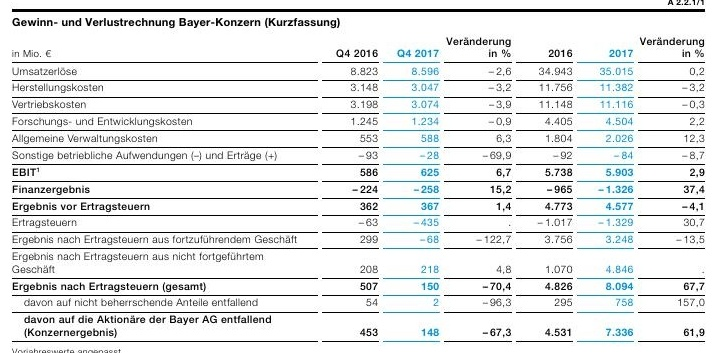table: (0, 0, 725, 353)
